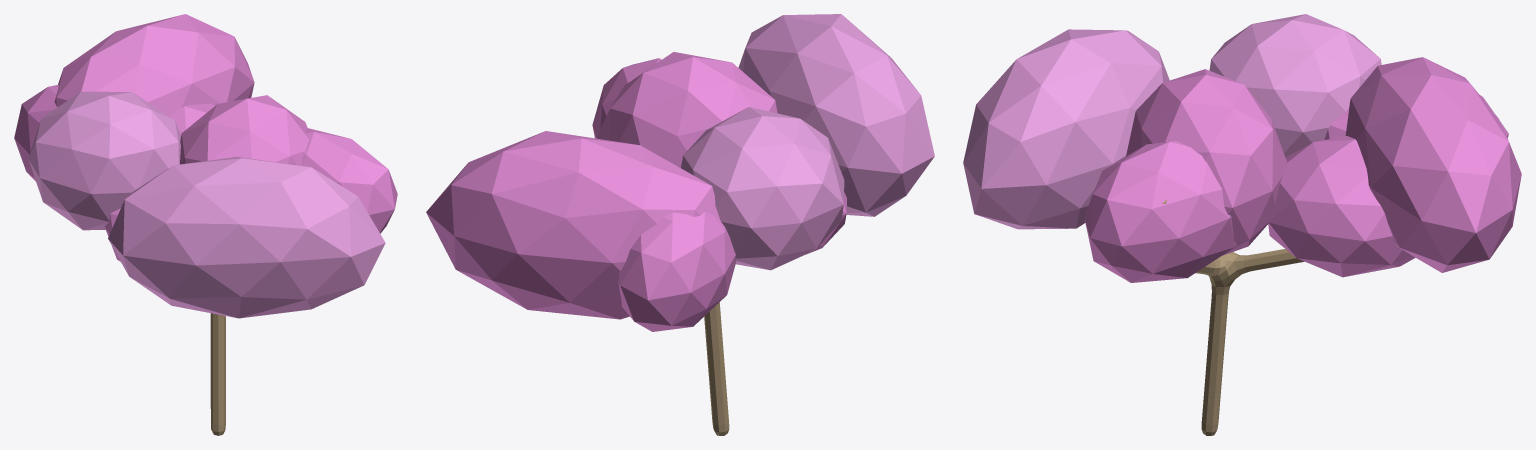
The model's file is Sakura_fixed.fbx.
3 views of the same model, side by side, from view 1: azimuth 30°, elevation 25°; view 2: azimuth 150°, elevation 25°; view 3: azimuth 270°, elevation 25° (orthographic). The views are drawn at different scales.
Visible parts, largest first — view 1: Icosphere.002, Icosphere.003, Icosphere.005, Icosphere.006, Icosphere.004, Plane, Icosphere.007, Icosphere.001; view 2: Icosphere.005, Icosphere.002, Icosphere.003, Icosphere.006, Icosphere.007, Plane, Icosphere.004; view 3: Icosphere.002, Icosphere.005, Icosphere.004, Icosphere.006, Icosphere.003, Icosphere.001, Plane.
Boxes of the visible parts, x1=… form: Icosphere.002: x1=108, y1=157, x2=385, y2=318; Icosphere.003: x1=28, y1=91, x2=180, y2=230; Icosphere.005: x1=54, y1=14, x2=254, y2=116; Icosphere.006: x1=180, y1=95, x2=308, y2=165; Icosphere.004: x1=302, y1=128, x2=397, y2=233; Plane: x1=210, y1=313, x2=225, y2=435; Icosphere.007: x1=14, y1=84, x2=58, y2=181; Icosphere.001: x1=170, y1=103, x2=215, y2=135; Icosphere.005: x1=426, y1=131, x2=719, y2=319; Icosphere.002: x1=738, y1=14, x2=934, y2=216; Icosphere.003: x1=681, y1=107, x2=844, y2=270; Icosphere.006: x1=596, y1=52, x2=777, y2=167; Icosphere.007: x1=618, y1=212, x2=736, y2=331; Plane: x1=604, y1=87, x2=729, y2=435; Icosphere.004: x1=592, y1=58, x2=661, y2=138; Icosphere.002: x1=963, y1=29, x2=1169, y2=229; Icosphere.005: x1=1345, y1=57, x2=1521, y2=272; Icosphere.004: x1=1084, y1=141, x2=1236, y2=282; Icosphere.006: x1=1126, y1=69, x2=1287, y2=255; Icosphere.003: x1=1209, y1=14, x2=1381, y2=157; Icosphere.001: x1=1268, y1=136, x2=1415, y2=277; Plane: x1=1162, y1=199, x2=1304, y2=435.
Bounding box in the file's own units: 665 × 723 × 974.
